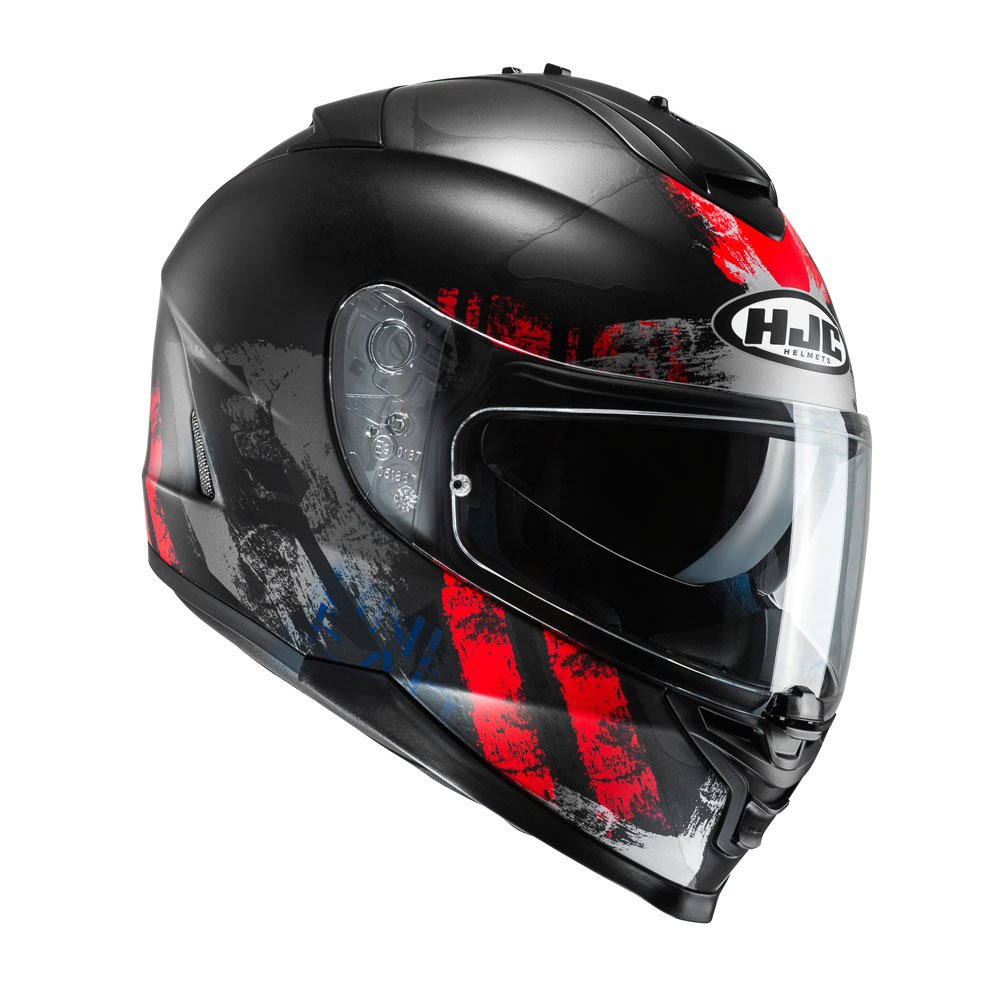with_helmet: (135, 47, 884, 931)
